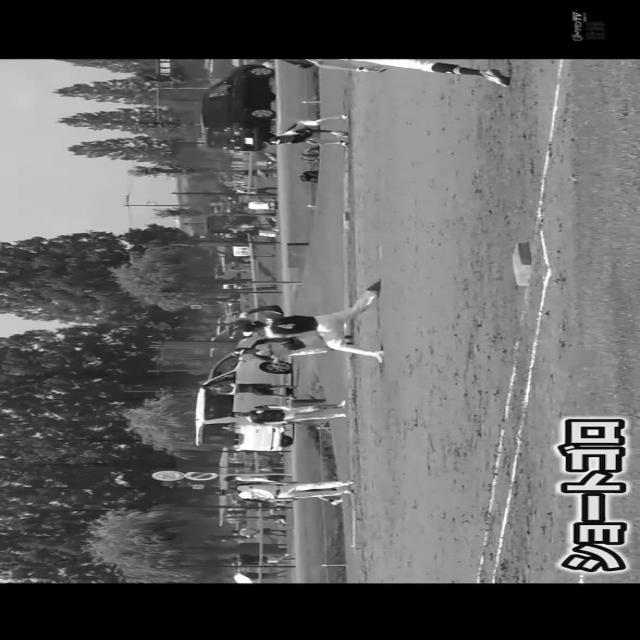base: (502, 240, 542, 288)
baseball: (238, 310, 246, 318)
baseball_glove: (278, 334, 308, 348)
shoe: (474, 68, 514, 86), (361, 280, 384, 300), (372, 344, 389, 364)
